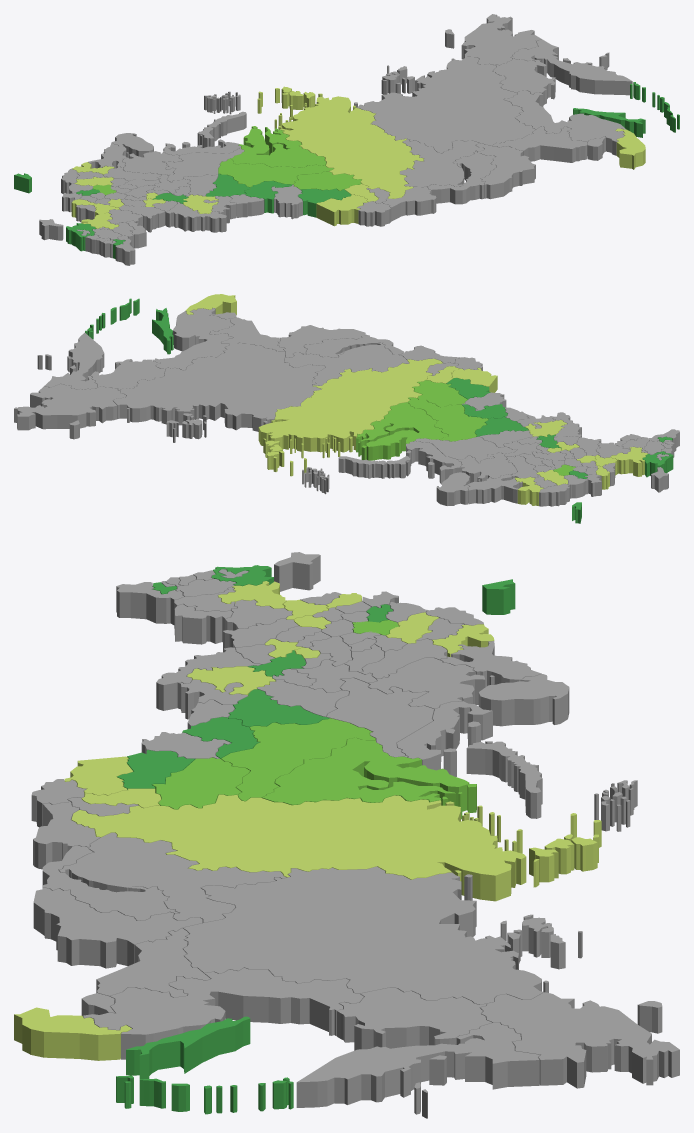
Rendered from russia.glb.
The picture shows the model from 3 angles, top to bottom: view 1: azimuth 30°, elevation 25°; view 2: azimuth 150°, elevation 25°; view 3: azimuth 270°, elevation 25°; orthographic projection. The views are drawn at different scales.
Visible parts, largest first — view 1: Республика саха (Якутия), Красноярский край, Камчатский край, Хабаровский край, Чукотский авономный округ, Иркутская область, Ямало-ненецкий автономный округ, Ненецкий автономный округ, Забайкальский край, Амурская область, Республика бурятия, Магаданская область (+27 smaller); view 2: Республика саха (Якутия), Красноярский край, Чукотский авономный округ, Ненецкий автономный округ, Ямало-ненецкий автономный округ, Хабаровский край, Иркутская область, Камчатский край, Ханты-мансийский автономный округ-югра, Магаданская область, Сахалинская область, Республика коми (+25 smaller); view 3: Республика саха (Якутия), Красноярский край, Чукотский авономный округ, Хабаровский край, Камчатский край, Ямало-ненецкий автономный округ, Ненецкий автономный округ, Иркутская область, Сахалинская область, Забайкальский край, Магаданская область, Ханты-мансийский автономный округ-югра (+33 smaller).
Boxes of the visible parts, x1,y1,x2,y2 form: Республика саха (Якутия): (354,56,535,153); Красноярский край: (257,86,423,198); Камчатский край: (511,39,632,95); Хабаровский край: (504,90,626,155); Чукотский авономный округ: (445,14,541,65); Иркутская область: (400,139,484,187); Ямало-ненецкий автономный округ: (230,126,326,167); Ненецкий автономный округ: (163,91,246,155); Забайкальский край: (476,143,535,199); Амурская область: (492,126,587,162); Республика бурятия: (427,151,496,204); Магаданская область: (492,58,555,105); Республика саха (Якутия): (113,343,325,442); Красноярский край: (258,358,442,476); Чукотский авономный округ: (14,384,126,439); Ненецкий автономный округ: (302,441,461,494); Ямало-ненецкий автономный округ: (356,402,448,460); Хабаровский край: (153,308,233,370); Иркутская область: (284,342,409,385); Камчатский край: (37,332,104,389); Ханты-мансийский автономный округ-югра: (408,397,488,441); Магаданская область: (91,359,165,391); Сахалинская область: (85,298,173,354); Республика коми: (413,436,516,463); Республика саха (Якутия): (183,866,582,1004); Красноярский край: (71,794,601,901); Чукотский авономный округ: (480,992,679,1088); Хабаровский край: (83,967,363,1059); Камчатский край: (296,1022,540,1118); Ямало-ненецкий автономный округ: (262,737,476,819); Ненецкий автономный округ: (397,701,637,831); Иркутская область: (58,832,286,922); Сахалинская область: (116,1016,293,1114); Забайкальский край: (33,887,202,968); Магаданская область: (337,987,492,1050); Ханты-мансийский автономный округ-югра: (221,718,375,801).
Bounding box in the file's own units: 3.23 × 0.0718 × 1.68.
